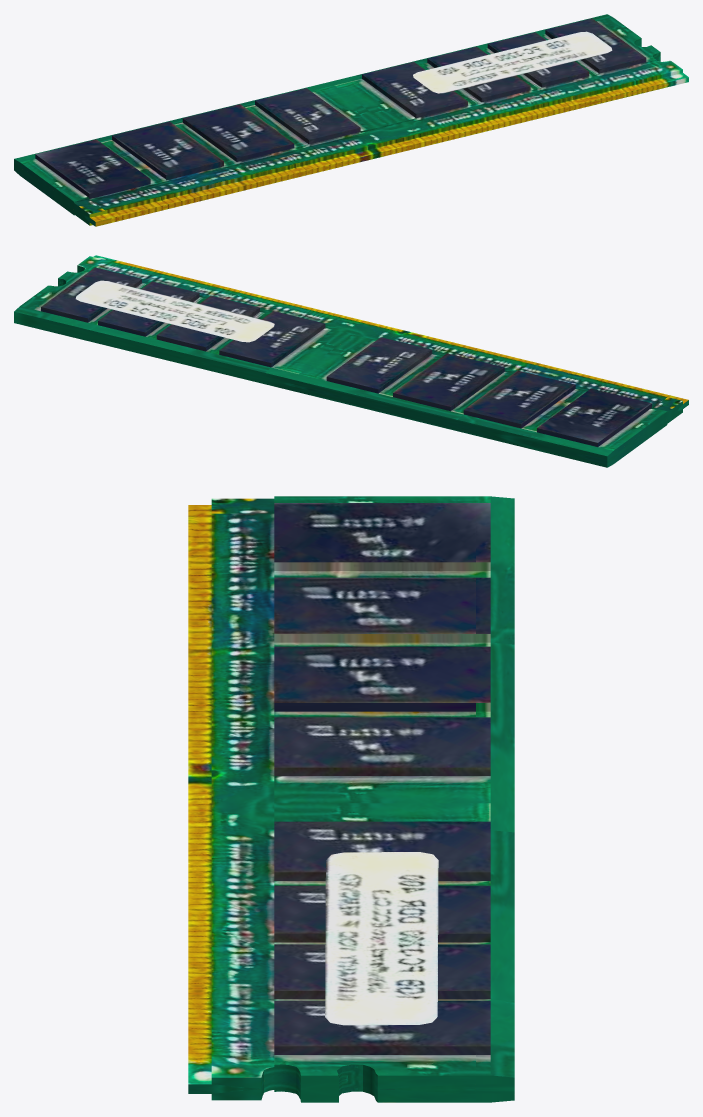
Rendered from ram.gltf.
The picture shows the model from 3 angles, top to bottom: view 1: azimuth 30°, elevation 25°; view 2: azimuth 150°, elevation 25°; view 3: azimuth 270°, elevation 25°; orthographic projection. The views are drawn at different scales.
Parts seen in each view (by area): view 1: RAM Stick; view 2: RAM Stick; view 3: RAM Stick.
Part boxes in pixels (x1,y1,x2,y2): RAM Stick: (14,14,688,226); RAM Stick: (14,255,688,467); RAM Stick: (188,496,514,1102).
Bounding box in the file's own units: 8.69 × 0.3698 × 2.07.
Materials: 1 (1 with a texture image).
